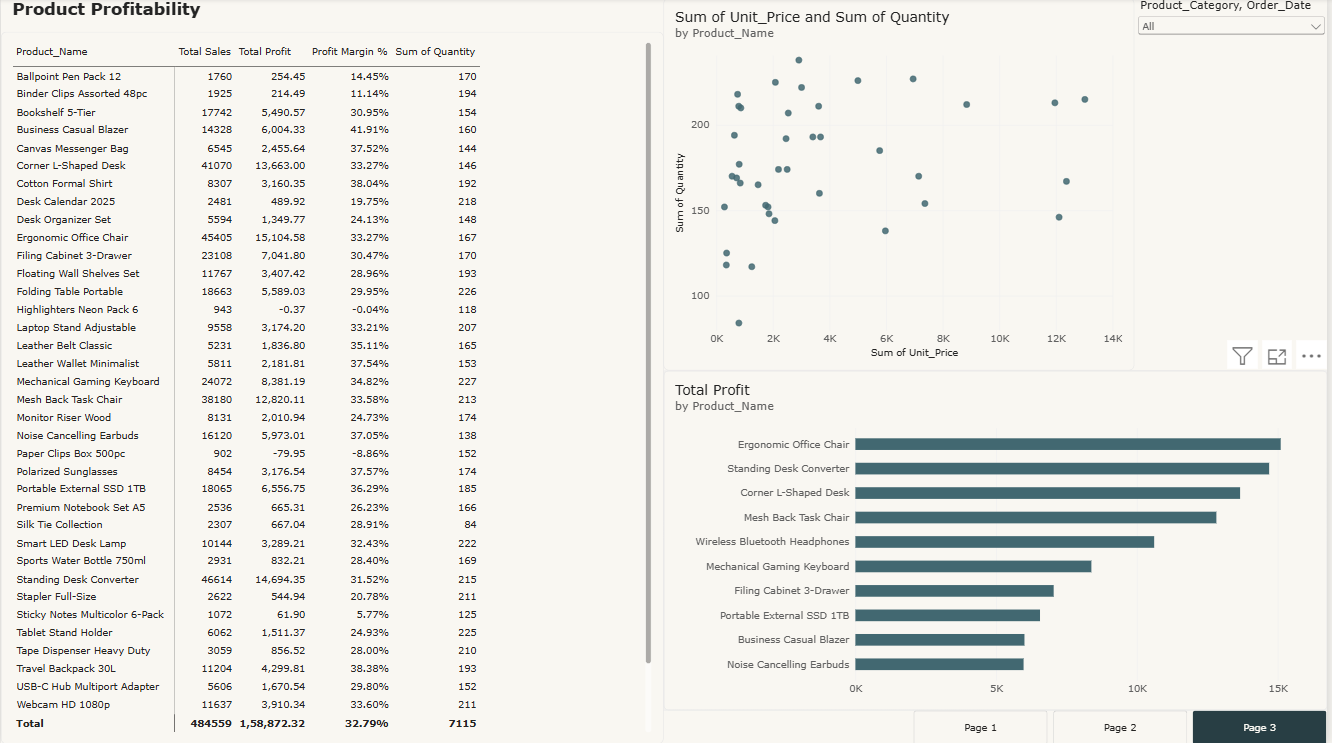

This screenshot's page, from the dashboard's own definition file:
{"tool":"powerbi","page":{"name":"Page 3","canvas":[1920,1080],"ordinal":2},"visuals":[{"type":"pivotTable","fields":{"Rows":["global_ecommerce_sales.Product_Category","global_ecommerce_sales.Product_Name"],"Values":["global_ecommerce_sales.Total Sales","global_ecommerce_sales.Total Profit","global_ecommerce_sales.Profit Margin %","Sum(global_ecommerce_sales.Quantity)"]},"box":[0,49.4,959.2,1031.2],"z":0},{"type":"clusteredBarChart","fields":{"Category":["global_ecommerce_sales.Product_Name"],"Y":["global_ecommerce_sales.Total Profit"]},"box":[959.2,539.3,961.2,491.9],"z":1000},{"type":"scatterChart","fields":{"Category":["global_ecommerce_sales.Product_Name"],"X":["Sum(global_ecommerce_sales.Unit_Price)"],"Y":["Sum(global_ecommerce_sales.Quantity)"]},"box":[959.2,0,681.3,539.3],"z":2000},{"type":"slicer","fields":{"Values":["global_ecommerce_sales.Product_Category","global_ecommerce_sales.Order_Date"]},"box":[1640.5,0,280,210],"z":3000},{"type":"pageNavigator","box":[1321.4,1031.2,600,50],"z":3001},{"type":"textbox","box":[16.5,0,368.4,49.4],"z":3002}]}

Visuals, with their boxes in screenshot pixels (x1, y1, x2, y2), scaled from the page's 1920x1080 canvas onto the 1332x743 screenshot:
pivotTable - global_ecommerce_sales.Product_Category x global_ecommerce_sales.Product_Name: bbox(0, 34, 665, 742)
clusteredBarChart - global_ecommerce_sales.Product_Name x global_ecommerce_sales.Total Profit: bbox(665, 371, 1331, 709)
scatterChart - global_ecommerce_sales.Product_Name x Sum(global_ecommerce_sales.Unit_Price): bbox(665, 0, 1138, 371)
slicer - global_ecommerce_sales.Product_Category x global_ecommerce_sales.Order_Date: bbox(1138, 0, 1331, 144)
pageNavigator: bbox(917, 709, 1331, 742)
textbox: bbox(11, 0, 267, 34)
